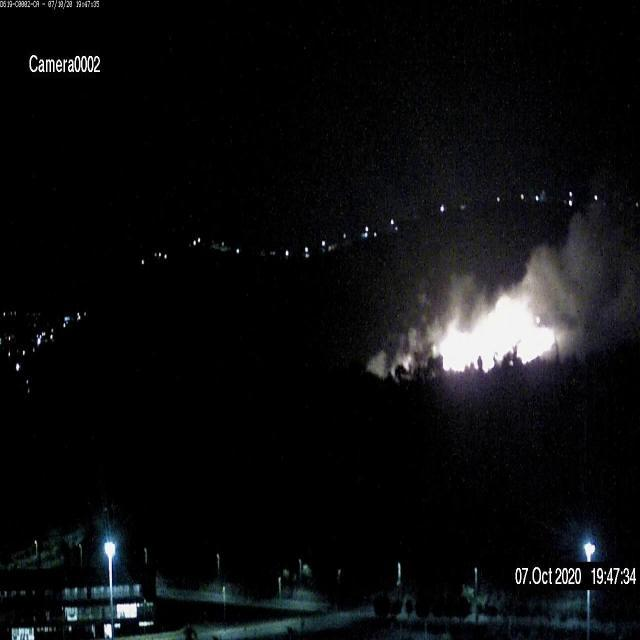Fire: (438, 297, 554, 376)
Smoke: (358, 196, 628, 374)
